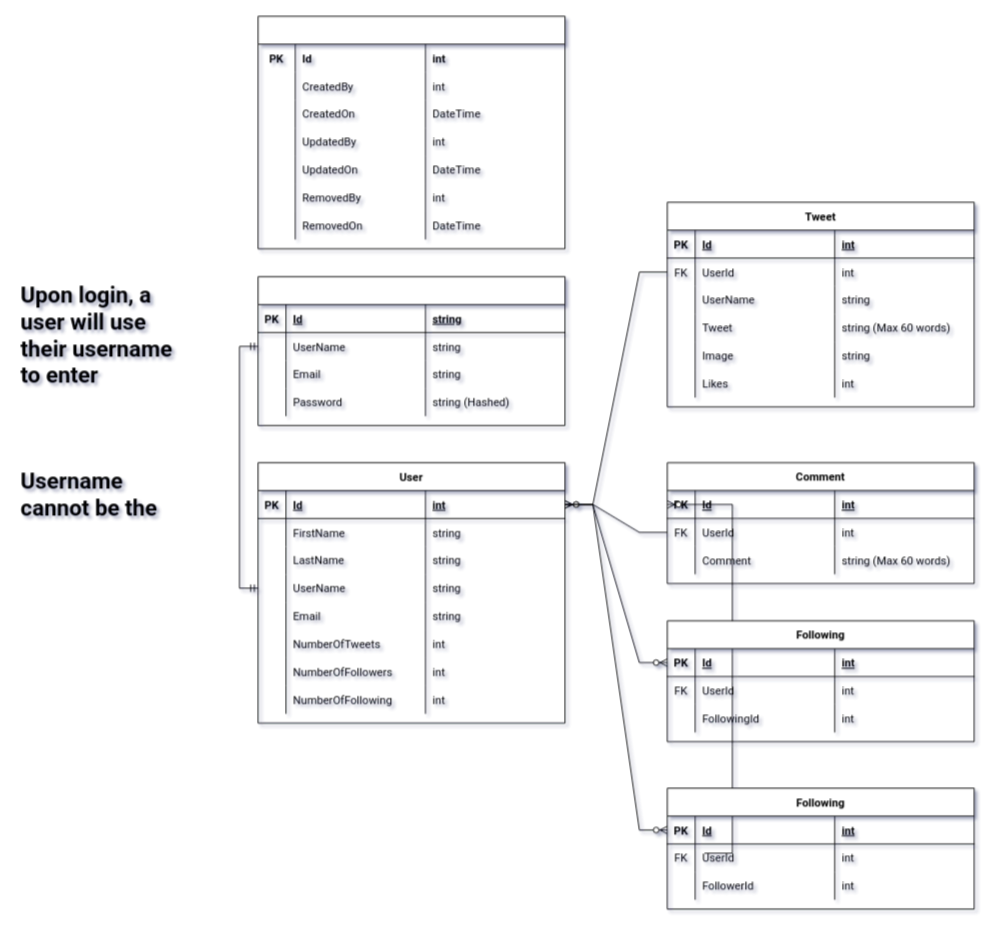
This 996x931 diagram has some shape labels left out. Each missing label, with the box of its shape:
AspNetUser: (257, 276, 565, 425)
BaseEntity: (257, 15, 565, 249)
